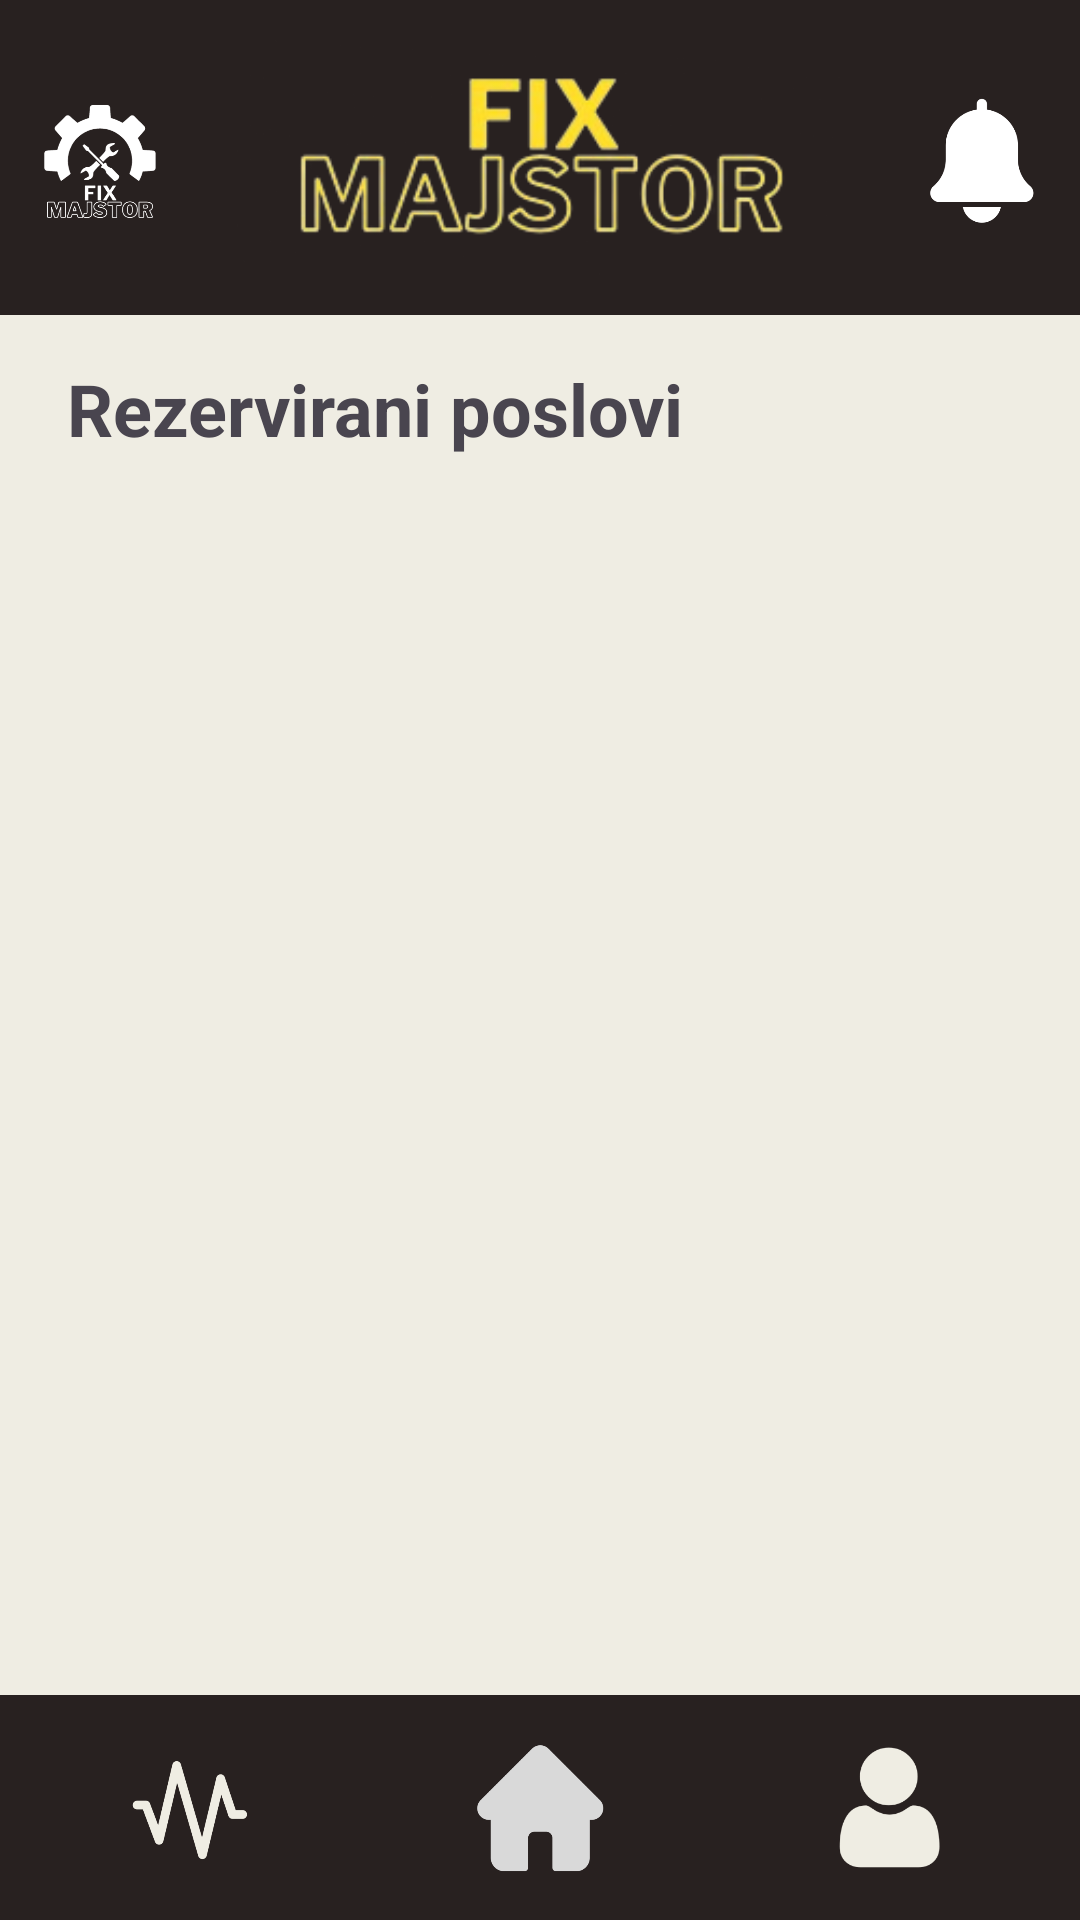

Where to tap for icons on this 1080*1920 app screen, as [x,y]:
Activity: [189,1810]
Home: [540,1808]
notification: [982,161]
Profile: [889,1807]
